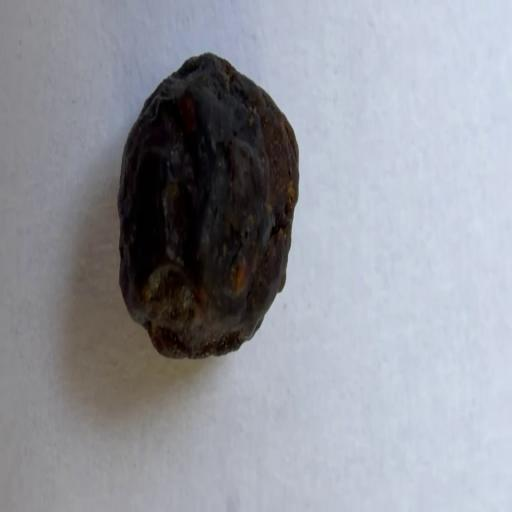Black_pepper: (108, 44, 317, 374)
